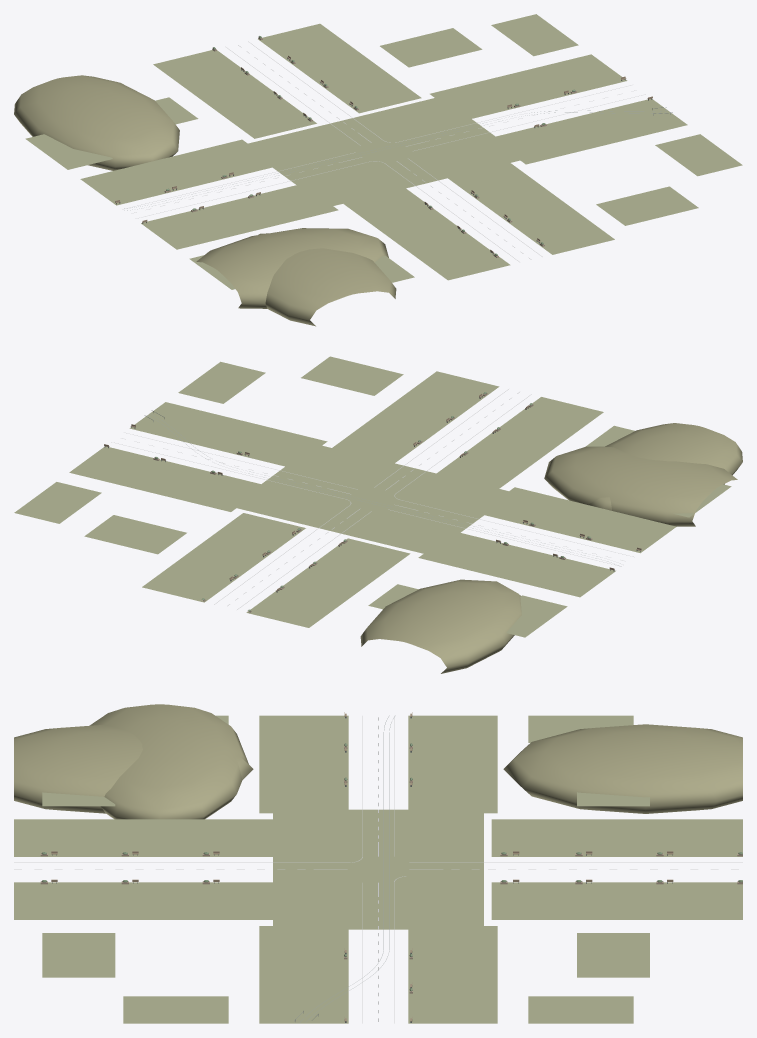
The picture shows the model from 3 angles, top to bottom: view 1: azimuth 30°, elevation 25°; view 2: azimuth 150°, elevation 25°; view 3: azimuth 270°, elevation 25°; orthographic projection. The views are drawn at different scales.
Parts seen in each view (by area): view 1: static; view 2: static; view 3: static.
Boxes of the visible parts, x1,y1,x2,y2 form: static: (14,14,742,326); static: (14,356,742,673); static: (14,704,742,1023).
Size of what is drawn, in the model's own units: 180 by 14.08 by 180.
